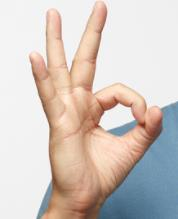left: (23, 1, 160, 200)
